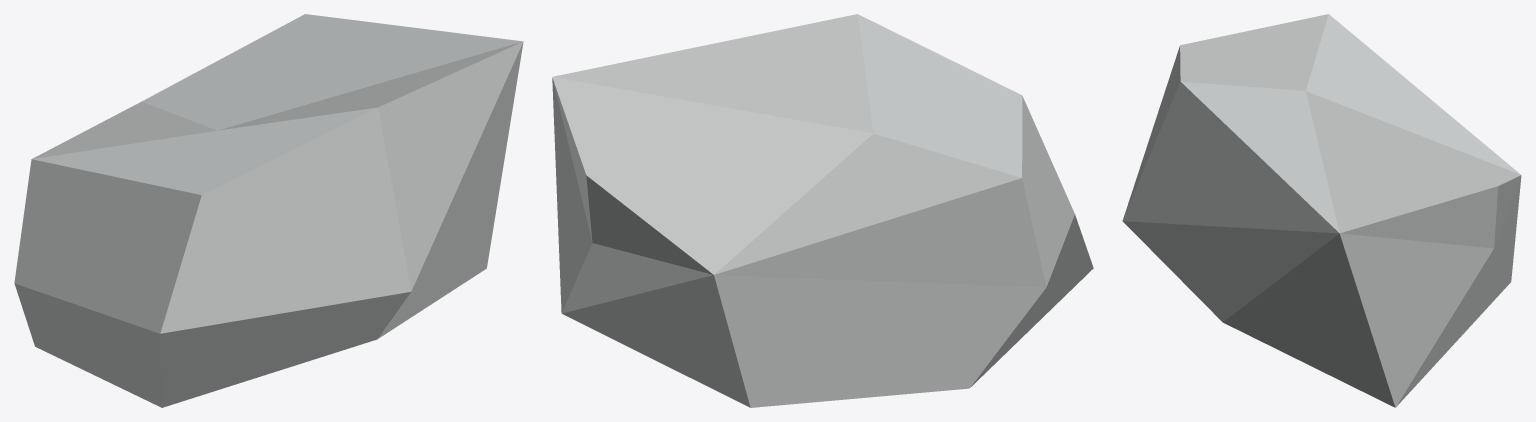
The model's file is Rock_01.fbx.
3 renders of one model, left to right at view 1: azimuth 30°, elevation 25°; view 2: azimuth 150°, elevation 25°; view 3: azimuth 270°, elevation 25°, orthographic. The views are drawn at different scales.
Parts seen in each view (by area): view 1: Rock_01; view 2: Rock_01; view 3: Rock_01.
Boxes of the visible parts, left/top/right/bottom form: Rock_01: left=14, top=14, right=523, bottom=407; Rock_01: left=552, top=14, right=1093, bottom=407; Rock_01: left=1122, top=14, right=1521, bottom=407.
Bounding box in the file's own units: 207 × 106 × 158.
1 material, 1 textured.
